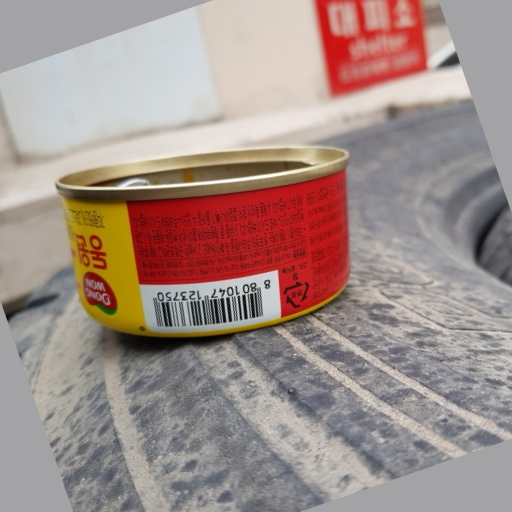Metal_1: (54, 142, 355, 332)
